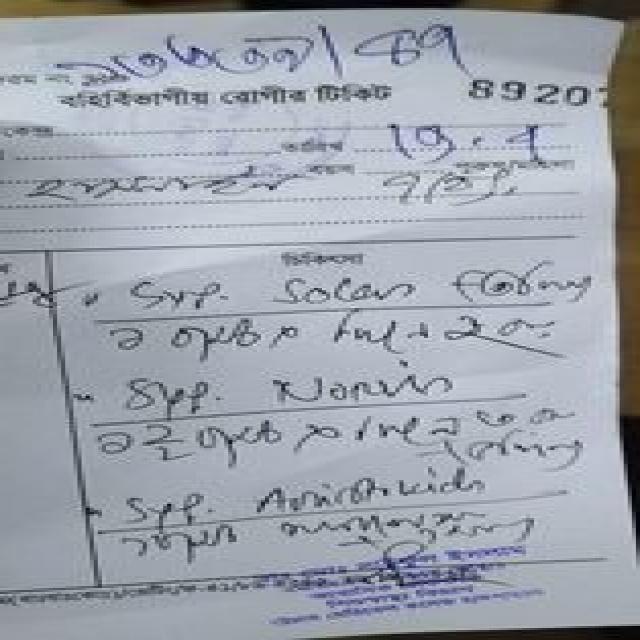Norin: (235, 370, 473, 404)
Solas: (265, 272, 431, 307)
